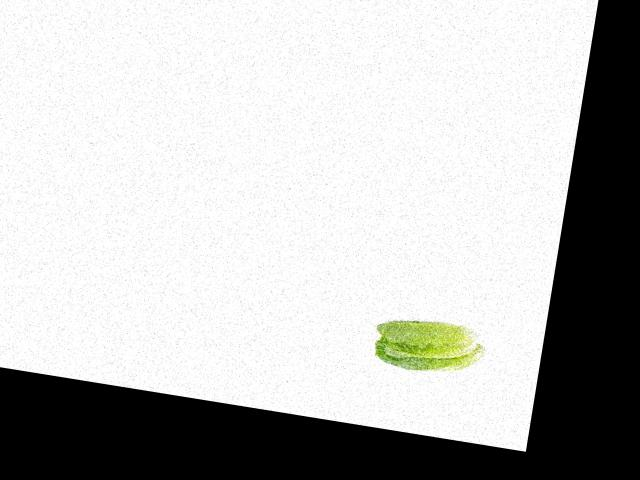lettuce: (369, 305, 489, 380)
